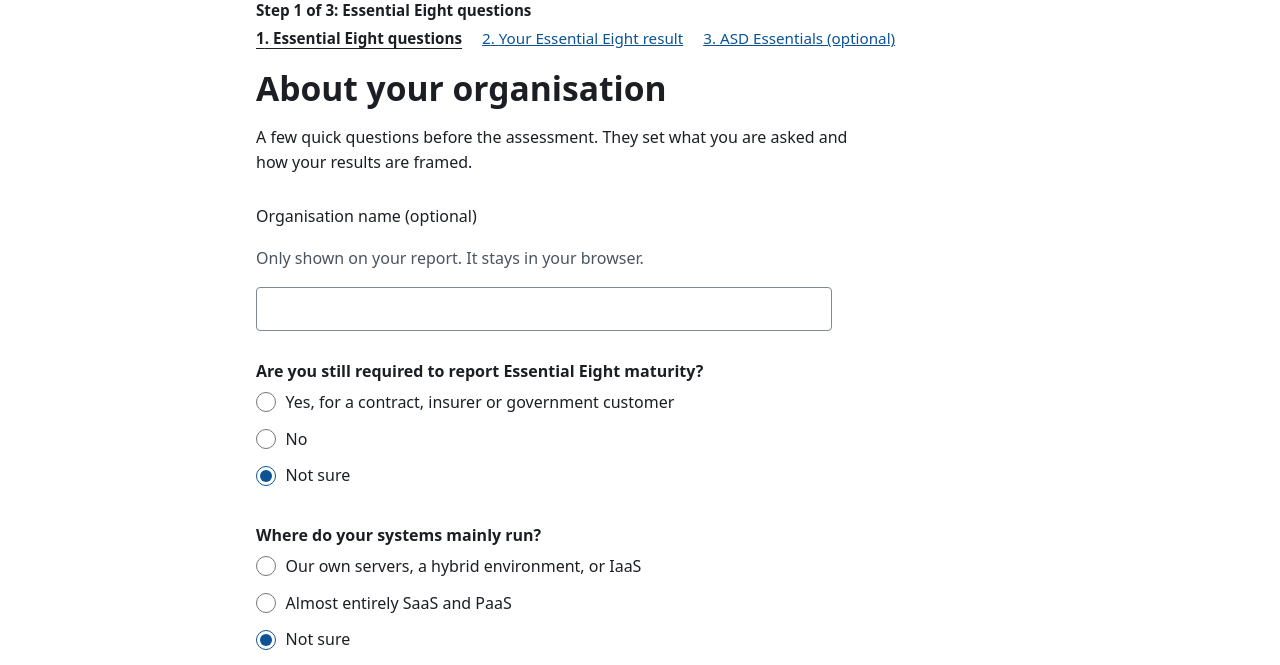
Test: context questions › shows the cloud chapter notice only for SaaS and PaaS
The image size is (1280, 665).
Click the radio button labelled "Almost entirely SaaS and PaaS".
click(266, 603)  # box [256, 593, 276, 613]
(page scrolled)
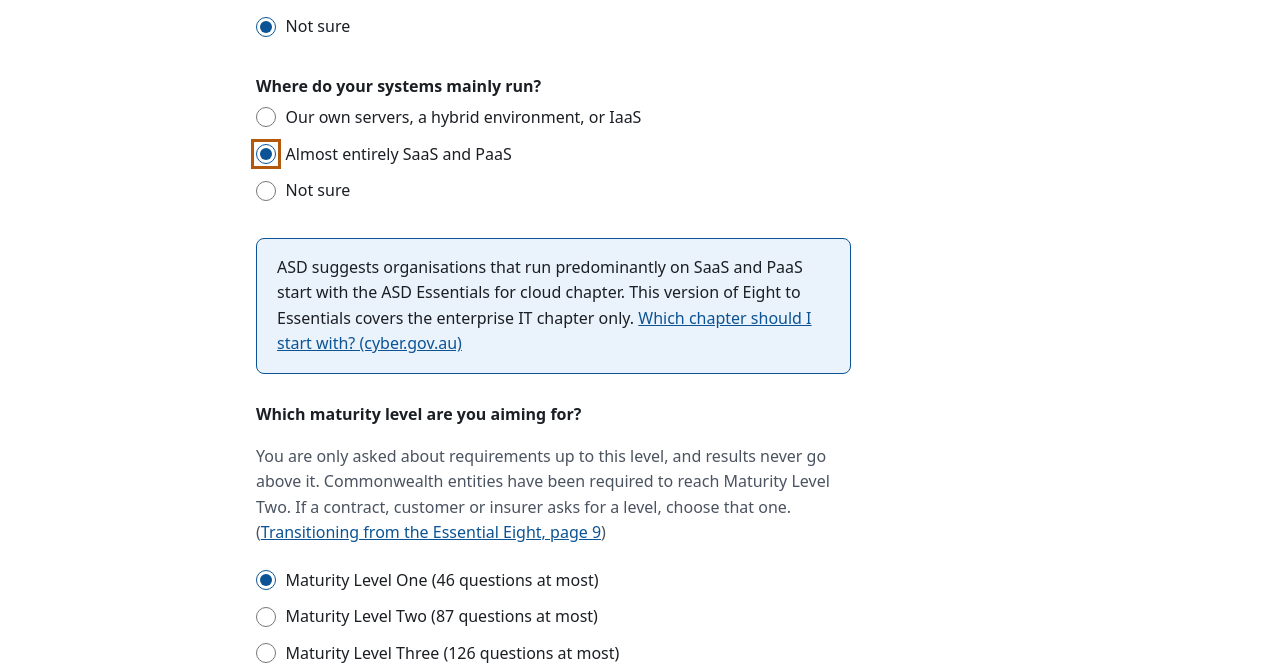
Result: the text "ASD suggests organisations that run predominantly on SaaS and PaaS start with the ASD Essentials for cloud chapter. This" is shown at [277, 256, 803, 329]
